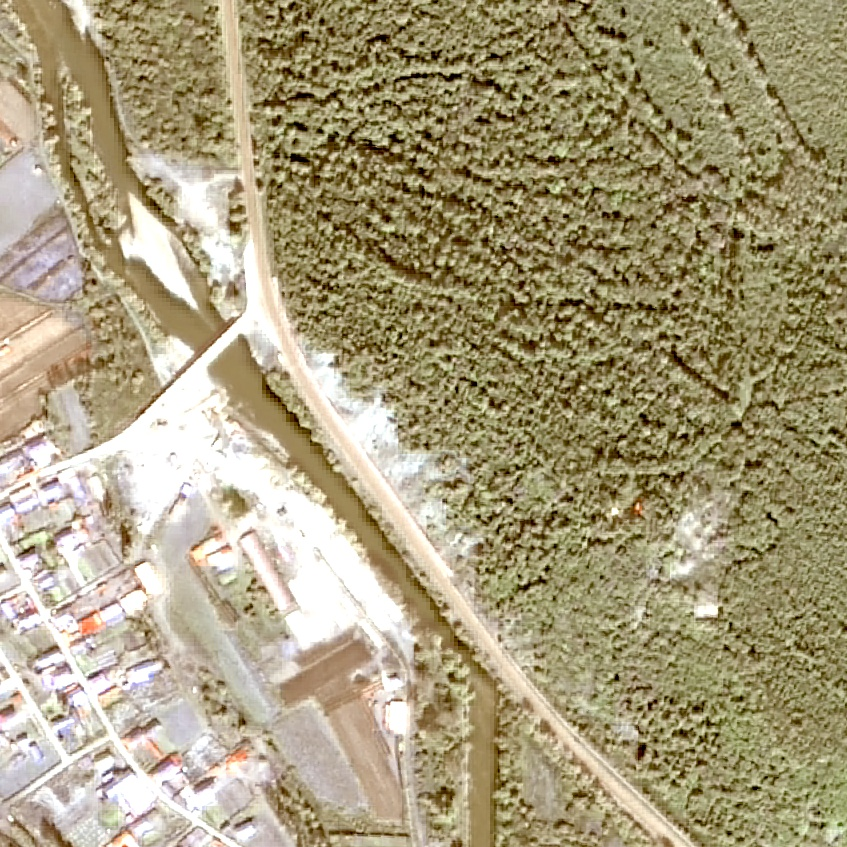slope: (312, 348, 481, 594), (135, 142, 246, 316)
